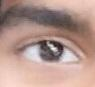open: (4, 30, 92, 68)
